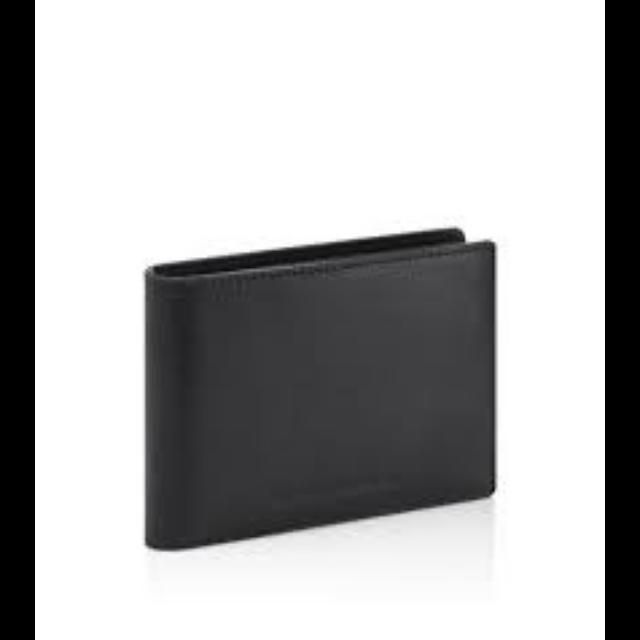wallet: (125, 219, 557, 607)
